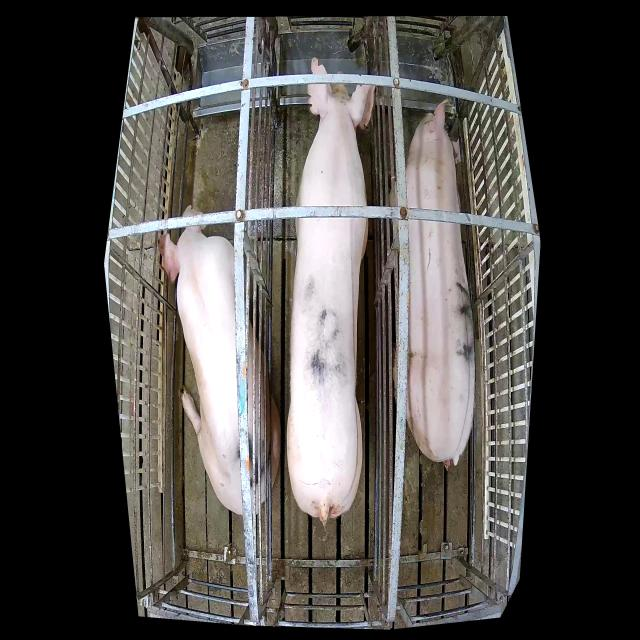pig: (287, 58, 376, 529), (158, 205, 280, 516), (389, 100, 475, 470)
